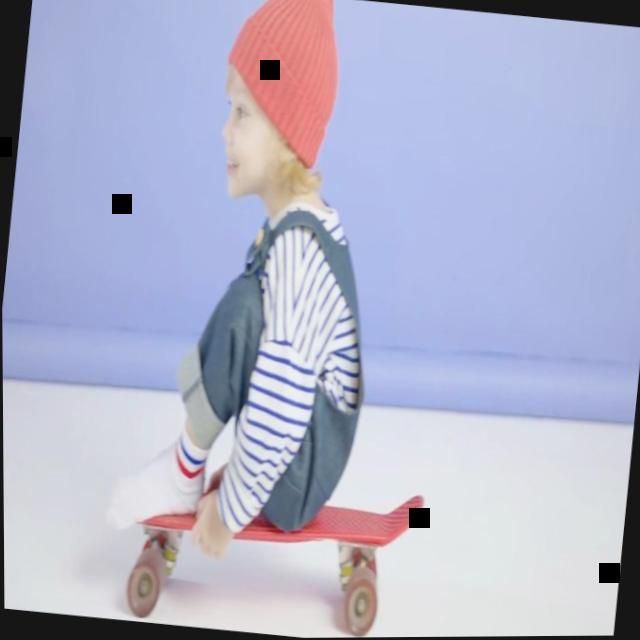NO-Mask: (213, 82, 271, 204)
